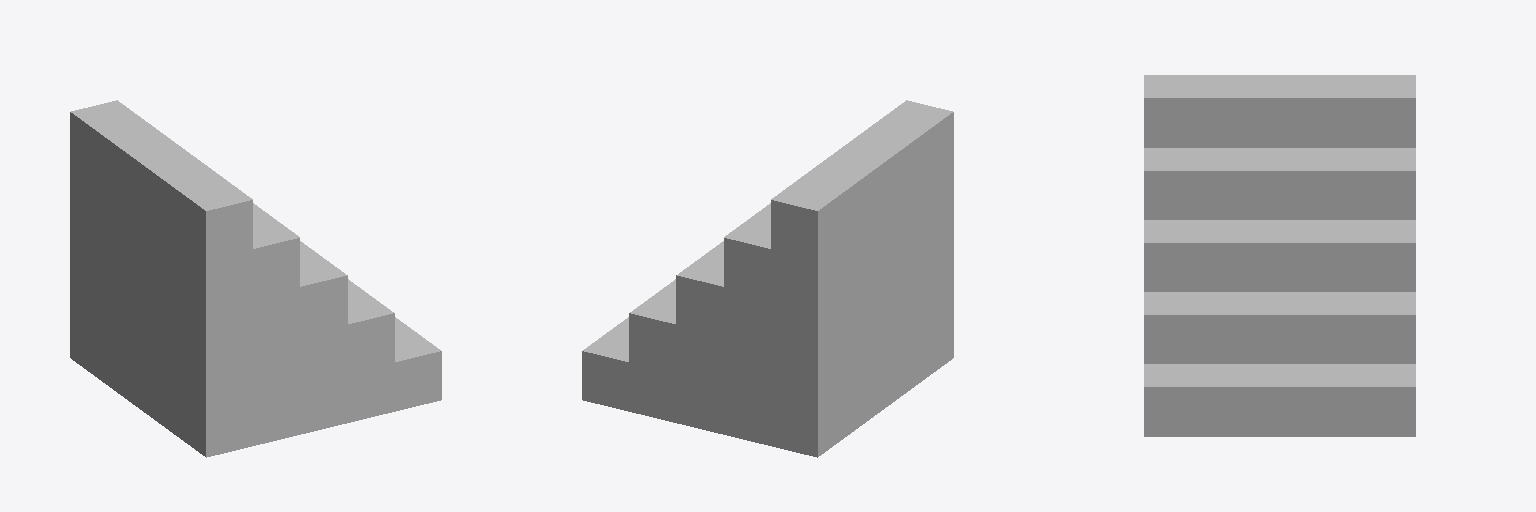
File: stair.obj
3 renders of one model, left to right at view 1: azimuth 30°, elevation 25°; view 2: azimuth 150°, elevation 25°; view 3: azimuth 270°, elevation 25°, orthographic.
Parts seen in each view (by area): view 1: stair_stair_down; view 2: stair_stair_down; view 3: stair_stair_down.
Boxes of the visible parts, <box> form: stair_stair_down: <box>70,100,441,457</box>; stair_stair_down: <box>582,100,953,457</box>; stair_stair_down: <box>1144,75,1415,436</box>.
Size of the model in its own units: 1 by 1 by 1.